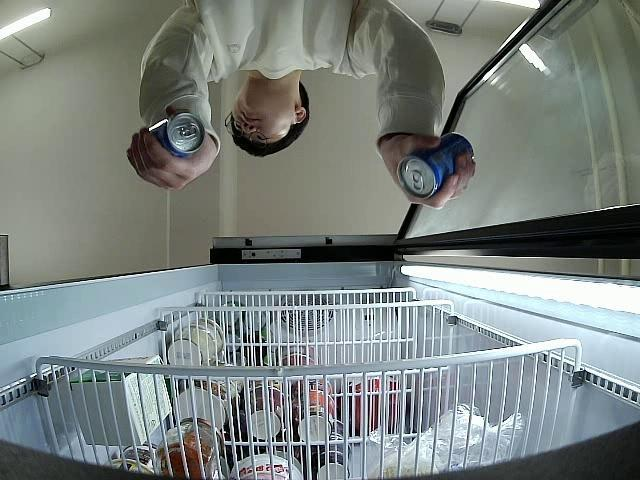15_letsbe: (397, 132, 474, 198), (146, 112, 206, 158)
